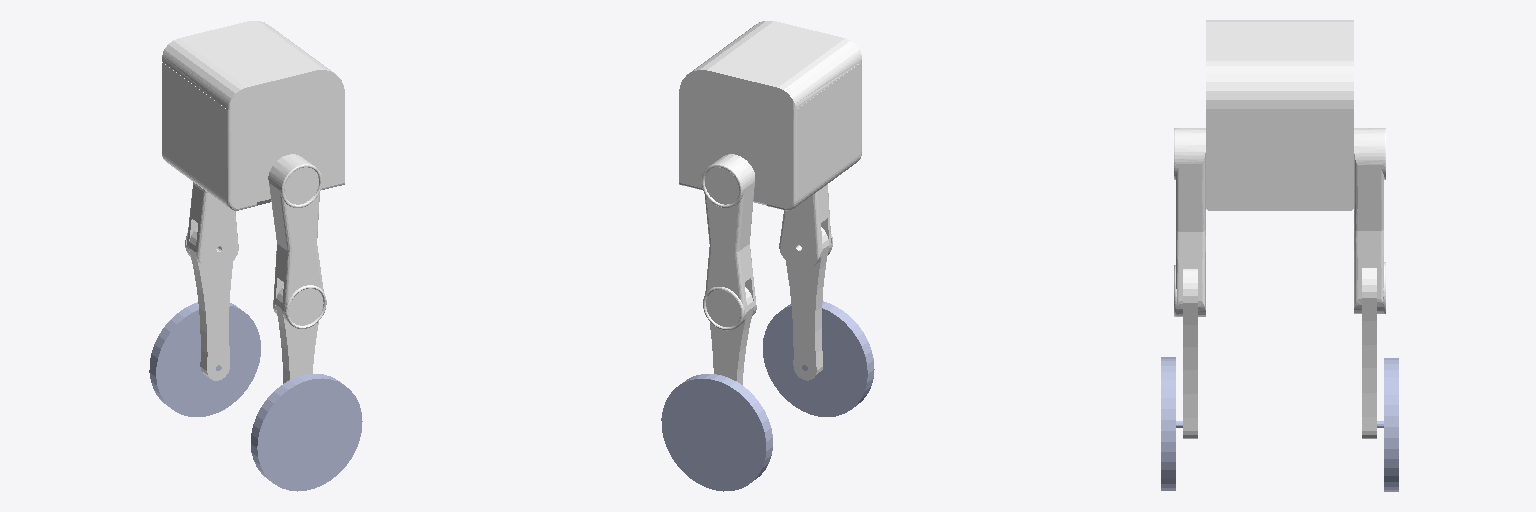
URDF robot description (Bipedal):
<?xml version="1.0" encoding="utf-8"?>
<!-- This URDF was automatically created by SolidWorks to URDF Exporter! Originally created by [author] ([email redacted]) 
     Commit Version: 1.6.0-4-g7f85cfe  Build Version: 1.6.7995.38578
     For more information, please see http://wiki.ros.org/sw_urdf_exporter -->
<robot
  name="Bipedal">
  <link
    name="base_link">
    <inertial>
      <origin
        xyz="0.005892185248743 0.00096003228135452 0.0227358081145863"
        rpy="0 0 0" />
      <mass
        value="2.58680345236989" />
      <inertia
        ixx="0.0215162702470085"
        ixy="-5.17133997903683E-06"
        ixz="-4.56150022793563E-06"
        iyy="0.02233115289391"
        iyz="2.30329361555432E-05"
        izz="0.0214719602558426" />
    </inertial>
    <visual>
      <origin
        xyz="0 0 0"
        rpy="0 0 0" />
      <geometry>
        <mesh
          filename="base_link.STL" />
      </geometry>
      <material
        name="">
        <color
          rgba="1 1 1 1" />
      </material>
    </visual>
    <collision>
      <origin
        xyz="0 0 0"
        rpy="0 0 0" />
      <geometry>
        <mesh
          filename="base_link.STL" />
      </geometry>
    </collision>
  </link>
  <link
    name="left_hip_link">
    <inertial>
      <origin
        xyz="0.0221476179409978 -0.00180782197663882 0.0832382762862187"
        rpy="0 0 0" />
      <mass
        value="0.548020625888634" />
      <inertia
        ixx="0.00300532174411885"
        ixy="3.93390670095766E-08"
        ixz="-1.76292492322203E-06"
        iyy="0.00292269782088124"
        iyz="5.80952026092228E-05"
        izz="0.000249331903422934" />
    </inertial>
    <visual>
      <origin
        xyz="0 0 0"
        rpy="0 0 0" />
      <geometry>
        <mesh
          filename="left_hip_link.STL" />
      </geometry>
      <material
        name="">
        <color
          rgba="1 1 1 1" />
      </material>
    </visual>
    <collision>
      <origin
        xyz="0 0 0"
        rpy="0 0 0" />
      <geometry>
        <mesh
          filename="left_hip_link.STL" />
      </geometry>
    </collision>
  </link>
  <joint
    name="left_hip"
    type="revolute">
    <origin
      xyz="0.00888 0.07579 -0.053421"
      rpy="3.1307 0 1.5708" />
    <parent
      link="base_link" />
    <child
      link="left_hip_link" />
    <axis
      xyz="1 0 0" />
    <limit
      lower="-1.57"
      upper="1.57"
      effort="8"
      velocity="6" />
  </joint>
  <link
    name="left_knee_link">
    <inertial>
      <origin
        xyz="0.00999999999999997 0.00405816047971824 0.0780025012410057"
        rpy="0 0 0" />
      <mass
        value="0.235606090992905" />
      <inertia
        ixx="0.00125058365366209"
        ixy="4.46222716025208E-19"
        ixz="1.57567977630954E-19"
        iyy="0.00120504350820787"
        iyz="-5.78069844359721E-05"
        izz="6.12472354964697E-05" />
    </inertial>
    <visual>
      <origin
        xyz="0 0 0"
        rpy="0 0 0" />
      <geometry>
        <mesh
          filename="left_knee_link.STL" />
      </geometry>
      <material
        name="">
        <color
          rgba="1 1 1 1" />
      </material>
    </visual>
    <collision>
      <origin
        xyz="0 0 0"
        rpy="0 0 0" />
      <geometry>
        <mesh
          filename="left_knee_link.STL" />
      </geometry>
    </collision>
  </link>
  <joint
    name="left_knee"
    type="revolute">
    <origin
      xyz="0.011886 -0.0043428 0.19995"
      rpy="0.035786 0 0" />
    <parent
      link="left_hip_link" />
    <child
      link="left_knee_link" />
    <axis
      xyz="1 0 0" />
    <limit
      lower="-2.51"
      upper="2.51"
      effort="4"
      velocity="6" />
  </joint>
  <link
    name="left_wheel_link">
    <inertial>
      <origin
        xyz="0.0398847926267281 1.66533453693773E-16 -3.60822483003176E-16"
        rpy="0 0 0" />
      <mass
        value="0.511294204371739" />
      <inertia
        ixx="0.00206122839245139"
        ixy="4.35521981117886E-18"
        ixz="-9.489361118333E-18"
        iyy="0.00104922134642376"
        iyz="-2.71050543121376E-19"
        izz="0.00104922134642376" />
    </inertial>
    <visual>
      <origin
        xyz="0 0 0"
        rpy="0 0 0" />
      <geometry>
        <mesh
          filename="left_wheel_link.STL" />
      </geometry>
      <material
        name="">
        <color
          rgba="0.792156862745098 0.819607843137255 0.933333333333333 1" />
      </material>
    </visual>
    <collision>
      <origin
        xyz="0 0 0"
        rpy="0 1.57 0" />
      <geometry>
       <cylinder length="0.02" radius="0.09"/>
      </geometry>
    </collision>
        <contact>
      <lateral_friction value="1.0"/>
      <rolling_friction value="0.01"/>
      <stiffness value="30000"/>
      <damping value="1000"/>
    </contact>
  </link>
  <joint
    name="left_wheel"
    type="continuous">
    <origin
      xyz="0 0.0099672 0.19975"
      rpy="1.1132 0 0" />
    <parent
      link="left_knee_link" />
    <child
      link="left_wheel_link" />
    <axis
      xyz="1 0 0" />
    <limit
      effort="2"
      velocity="111" />
  </joint>
  <link
    name="right_hip_link">
    <inertial>
      <origin
        xyz="0.0221476179409978 5.51884541209052E-08 0.08325790568707"
        rpy="0 0 0" />
      <mass
        value="0.548020625888635" />
      <inertia
        ixx="0.00300532174411886"
        ixy="1.04932247803324E-09"
        ixz="-1.7633634753037E-06"
        iyy="0.00292395969834896"
        iyz="4.15644490342403E-09"
        izz="0.000248070025955223" />
    </inertial>
    <visual>
      <origin
        xyz="0 0 0"
        rpy="0 0 0" />
      <geometry>
        <mesh
          filename="right_hip_link.STL" />
      </geometry>
      <material
        name="">
        <color
          rgba="1 1 1 1" />
      </material>
    </visual>
    <collision>
      <origin
        xyz="0 0 0"
        rpy="0 0 0" />
      <geometry>
        <mesh
          filename="right_hip_link.STL" />
      </geometry>
    </collision>
  </link>
  <joint
    name="right_hip"
    type="revolute">
    <origin
      xyz="0.00888 -0.12044 -0.053421"
      rpy="-3.1035 0 -1.5708" />
    <parent
      link="base_link" />
    <child
      link="right_hip_link" />
    <axis
      xyz="1 0 0" />
    <limit
      lower="-1.57"
      upper="1.57"
      effort="8"
      velocity="6" />
  </joint>
  <link
    name="right_knee_link">
    <inertial>
      <origin
        xyz="-0.01 -0.00358343265192281 0.0780257515754856"
        rpy="0 0 0" />
      <mass
        value="0.235606090433468" />
      <inertia
        ixx="0.00125058366098766"
        ixy="4.49507271034167E-19"
        ixz="-3.22054760641187E-19"
        iyy="0.00120536523942331"
        iyz="5.45303616218321E-05"
        izz="6.09255116038897E-05" />
    </inertial>
    <visual>
      <origin
        xyz="0 0 0"
        rpy="0 0 0" />
      <geometry>
        <mesh
          filename="right_knee_link.STL" />
      </geometry>
      <material
        name="">
        <color
          rgba="1 1 1 1" />
      </material>
    </visual>
    <collision>
      <origin
        xyz="0 0 0"
        rpy="0 0 0" />
      <geometry>
        <mesh
          filename="right_knee_link.STL" />
      </geometry>
    </collision>
  </link>
  <joint
    name="right_knee"
    type="revolute">
    <origin
      xyz="0.011886 0 0.2"
      rpy="0.014105 0 3.1416" />
    <parent
      link="right_hip_link" />
    <child
      link="right_knee_link" />
    <axis
      xyz="1 0 0" />
    <limit
      lower="-2.51"
      upper="2.51"
      effort="4"
      velocity="6" />
  </joint>
  <link
    name="right_wheel_link">
    <inertial>
      <origin
        xyz="0.0398847926267281 3.88578058618805E-16 1.66533453693773E-16"
        rpy="0 0 0" />
      <mass
        value="0.511294204371739" />
      <inertia
        ixx="0.00206122839245139"
        ixy="9.52672331870916E-18"
        ixz="4.28717095203306E-18"
        iyy="0.00104922134642376"
        iyz="1.89735380184963E-19"
        izz="0.00104922134642376" />
    </inertial>
    <visual>
      <origin
        xyz="0 0 0"
        rpy="0 0 0" />
      <geometry>
        <mesh
          filename="right_wheel_link.STL" />
      </geometry>
      <material
        name="">
        <color
          rgba="0.792156862745098 0.819607843137255 0.933333333333333 1" />
      </material>
    </visual>
    <collision>
      <origin
        xyz="0 0 0"
        rpy="0 1.57 0" />
      <geometry>
        <cylinder length="0.02" radius="0.09"/>
      </geometry>
    </collision>
     <contact>
      <lateral_friction value="1.0"/>
      <rolling_friction value="0.01"/>
      <stiffness value="30000"/>
      <damping value="1000"/>
    </contact>
  </link>
  <joint
    name="right_wheel"
    type="continuous">
    <origin
      xyz="0 -0.0095996 0.19977"
      rpy="-0.44779 0 3.1416" />
    <parent
      link="right_knee_link" />
    <child
      link="right_wheel_link" />
    <axis
      xyz="1 0 0" />
    <limit
      effort="2"
      velocity="111" />
  </joint>



    <transmission name="tran_1">
    <type>transmission_interface/SimpleTransmission</type>
    <joint name="left_hip">
      <hardwareInterface>hardware_interface/PositionJointInterface</hardwareInterface>
    </joint>
    <actuator name="joint_1_pos">
      <hardwareInterface>hardware_interface/PositionJointInterface</hardwareInterface>
      <mechanicalReduction>1</mechanicalReduction>
    </actuator>
  </transmission>

  <transmission name="tran_2">
    <type>transmission_interface/SimpleTransmission</type>
    <joint name="left_knee">
      <hardwareInterface>hardware_interface/PositionJointInterface</hardwareInterface>
    </joint>
    <actuator name="joint_2_pos">
      <hardwareInterface>hardware_interface/PositionJointInterface</hardwareInterface>
      <mechanicalReduction>1</mechanicalReduction>
    </actuator>
  </transmission>

  <transmission name="tran_4">
    <type>transmission_interface/SimpleTransmission</type>
    <joint name="right_hip">
      <hardwareInterface>hardware_interface/PositionJointInterface</hardwareInterface>
    </joint>
    <actuator name="joint_4_pos">
      <hardwareInterface>hardware_interface/PositionJointInterface</hardwareInterface>
      <mechanicalReduction>1</mechanicalReduction>
    </actuator>
  </transmission>

  <transmission name="tran_5">
    <type>transmission_interface/SimpleTransmission</type>
    <joint name="right_knee">
      <hardwareInterface>hardware_interface/PositionJointInterface</hardwareInterface>
    </joint>
    <actuator name="joint_5_pos">
      <hardwareInterface>hardware_interface/PositionJointInterface</hardwareInterface>
      <mechanicalReduction>1</mechanicalReduction>
    </actuator>
  </transmission>

  <transmission name="tran_3">
    <type>transmission_interface/SimpleTransmission</type>
    <joint name="left_wheel">
      <hardwareInterface>hardware_interface/VelocityJointInterface</hardwareInterface>
    </joint>
    <actuator name="left_wheel_vel">
      <hardwareInterface>hardware_interface/VelocityJointInterface</hardwareInterface>
      <mechanicalReduction>1</mechanicalReduction>
    </actuator>
  </transmission>

  <transmission name="tran_6">
    <type>transmission_interface/SimpleTransmission</type>
    <joint name="right_wheel">
      <hardwareInterface>hardware_interface/VelocityJointInterface</hardwareInterface>
    </joint>
    <actuator name="right_wheel_vel">
      <hardwareInterface>hardware_interface/VelocityJointInterface</hardwareInterface>
      <mechanicalReduction>1</mechanicalReduction>
    </actuator>
  </transmission>


   <link name="imu">
    <inertial>
      <mass value="0.01"/>
      <origin rpy="0 0 0" xyz="0 0 0"/>
      <inertia ixx="0.0001" ixy="0" ixz="0" iyy="0.0001" iyz="0" izz="0.0001"/>
    </inertial>
  </link>

  <joint name="imu_joint" type="fixed">
    <parent link="base_link"/>
    <child link="imu"/>
    <origin xyz="0 0 0" rpy="0 0 0"/>
  </joint>

  <gazebo reference="imu">
    <sensor name="imu_sensor" type="imu">
      <plugin name="imu_plugin" filename="libgazebo_ros_imu_sensor.so">
        <ros>
          <namespace>/bipedal</namespace>
          <topic>imu/data</topic>
          <frame_name>imu</frame_name>
        </ros>
        <initial_orientation_as_reference>false</initial_orientation_as_reference>
      </plugin>
    </sensor>
  </gazebo>


  
</robot>

--- What the picture shows (computed from the rendered views, not written in the file) ---
The picture shows the robot from 3 angles, left to right: view 1: azimuth 30°, elevation 25°; view 2: azimuth 150°, elevation 25°; view 3: azimuth 270°, elevation 25°; orthographic projection.
Model Bipedal with 8 links and 7 joints (4 revolute, 2 continuous, 1 fixed), rooted at base_link, posed every joint at zero.
Links seen in each view (by area): view 1: base_link, right_wheel_link, left_wheel_link, right_hip_link, left_knee_link, left_hip_link, right_knee_link; view 2: base_link, left_wheel_link, right_wheel_link, left_hip_link, right_knee_link, right_hip_link, left_knee_link; view 3: base_link, right_hip_link, left_hip_link, left_knee_link, right_knee_link, left_wheel_link, right_wheel_link.
Link boxes in pixels (x1,y1,x2,y2): base_link: (162,21,344,210); right_wheel_link: (251,374,362,491); left_wheel_link: (149,302,260,416); right_hip_link: (268,154,326,328); left_knee_link: (189,227,232,380); left_hip_link: (185,182,238,270); right_knee_link: (275,286,318,383); base_link: (679,21,861,210); left_wheel_link: (661,374,772,491); right_wheel_link: (763,301,874,416); left_hip_link: (701,154,756,330); right_knee_link: (786,227,828,380); right_hip_link: (779,184,832,269); left_knee_link: (710,287,753,384); base_link: (1206,20,1353,210); right_hip_link: (1174,128,1205,316); left_hip_link: (1354,128,1385,313); left_knee_link: (1362,268,1376,438); right_knee_link: (1183,269,1197,438); left_wheel_link: (1377,358,1398,491); right_wheel_link: (1161,357,1182,490).
Bounding box of the posed robot: 0.2 × 0.32 × 0.6511 m (x, y, z).
7 mesh visuals loaded from 7 distinct referenced files (7 binary STL).